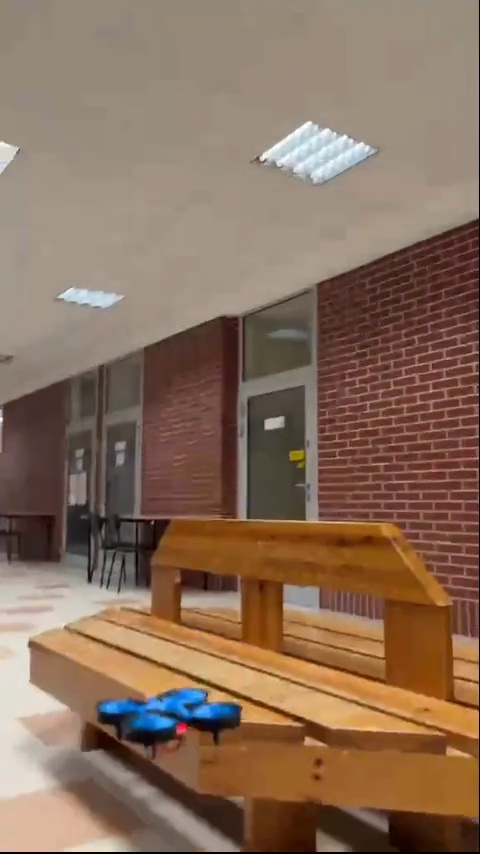drone: (102, 686, 231, 758)
